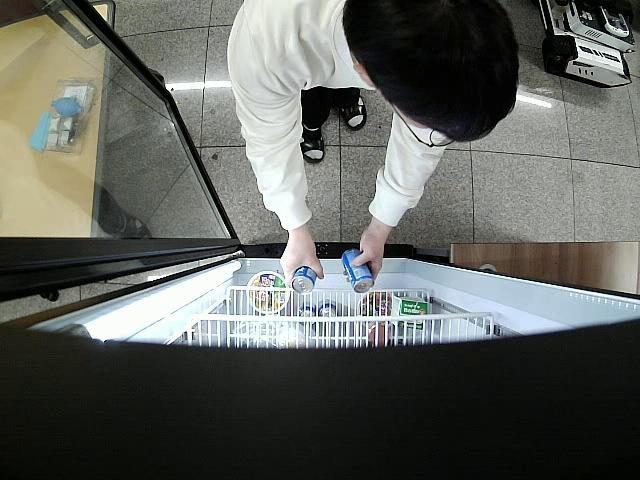15_letsbe: (340, 247, 374, 294), (291, 266, 316, 292)
